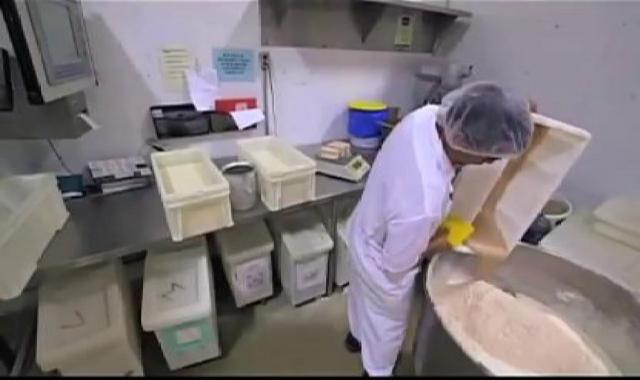hairnet: (433, 81, 545, 161)
